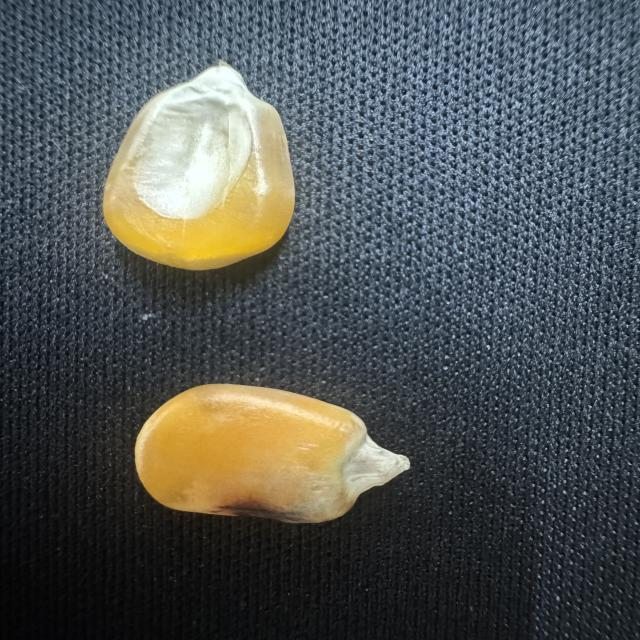Bad-Seed: (123, 377, 419, 546)
Good-Seed: (96, 61, 300, 277)
